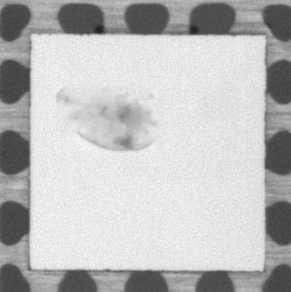DIE_INK: (54, 82, 160, 151)
